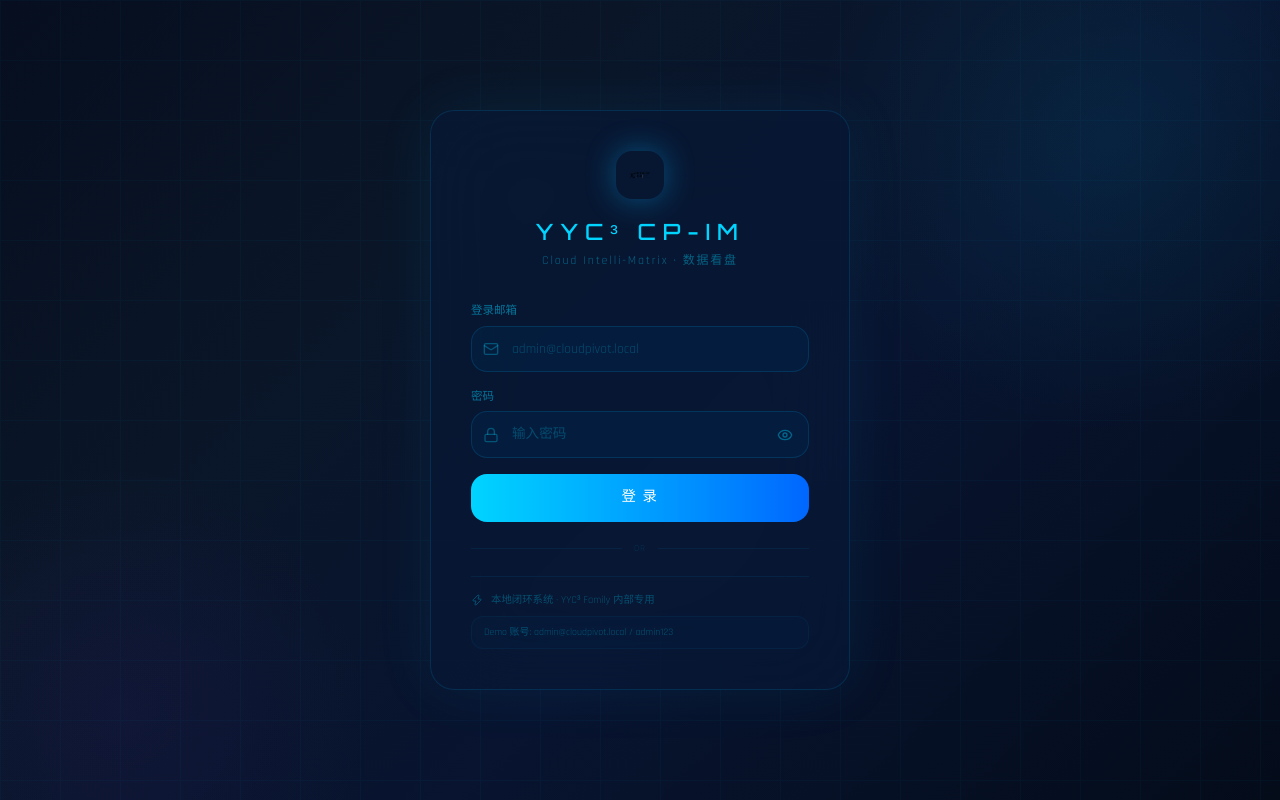
Test case: Login Component › should disable login button during loading
Type "test@example.com" into the field with test id "login-email-input" at (640, 349), box [471,326,809,372]
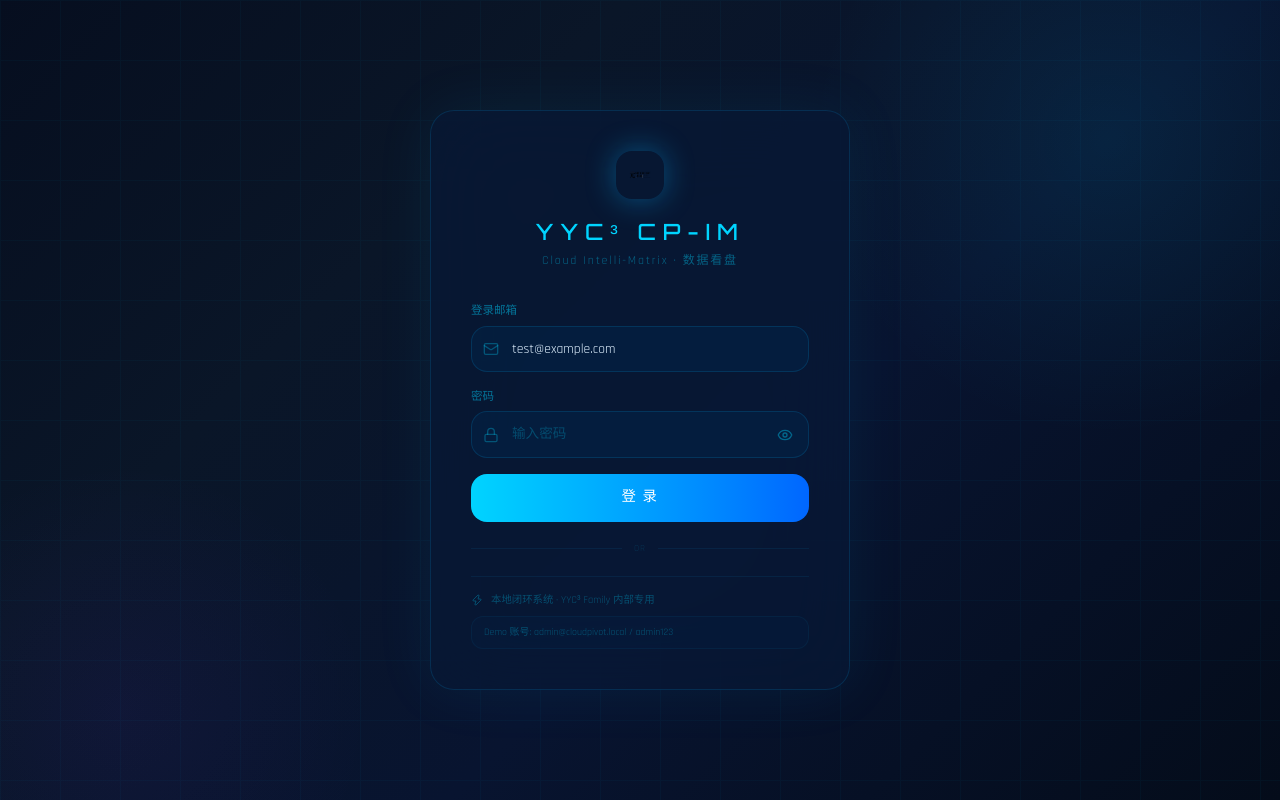
Type "password123" into the password field with test id "login-password-input" at (640, 435), box [471,411,809,458]
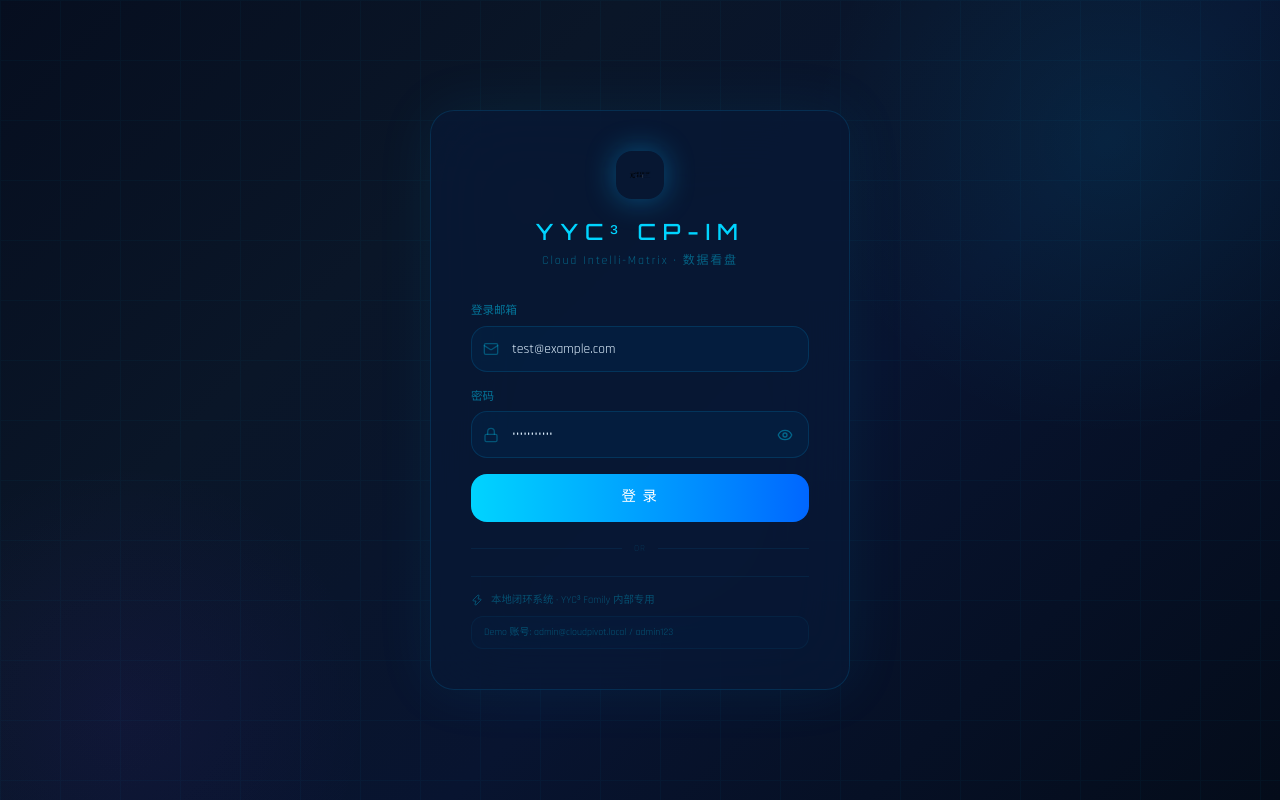
Click the button with test id "login-submit-button" at (640, 498), box [471,474,809,522]
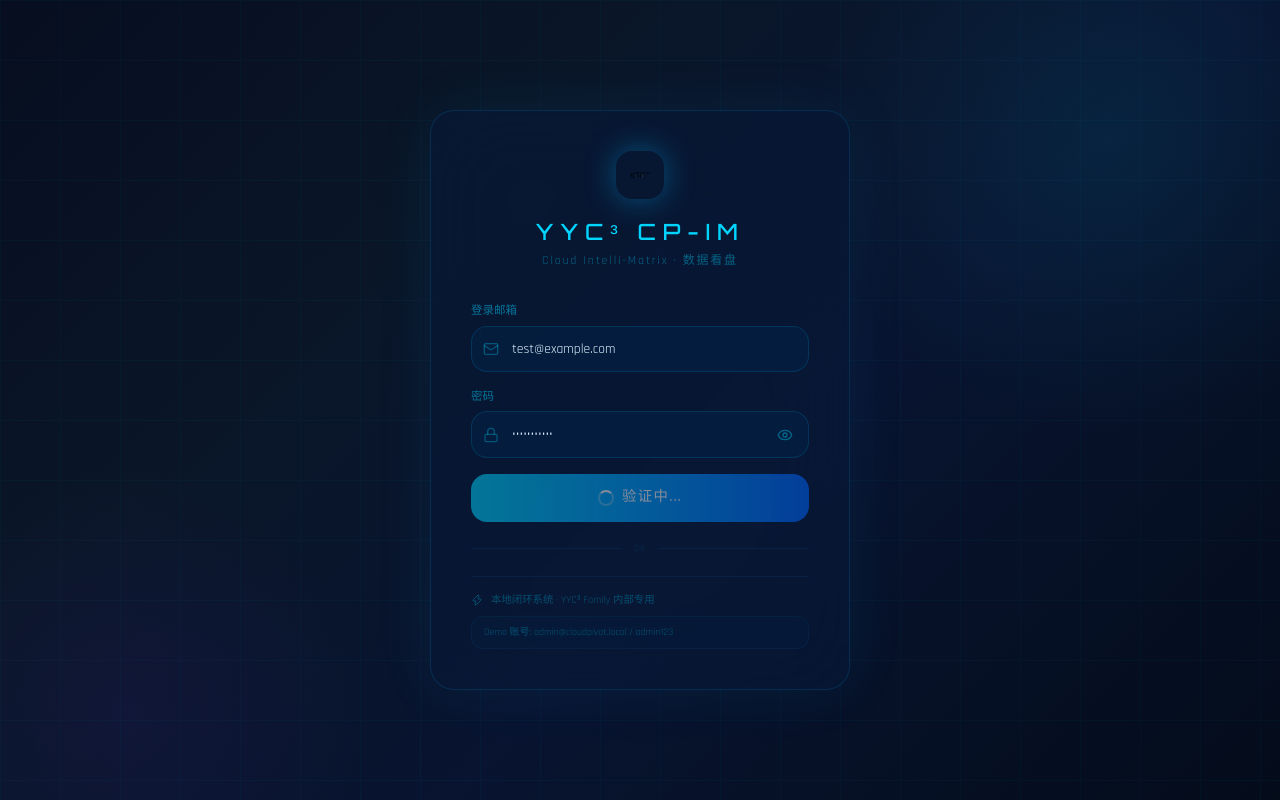
Check: the button with test id "login-submit-button" is disabled, box [471,474,809,522]
